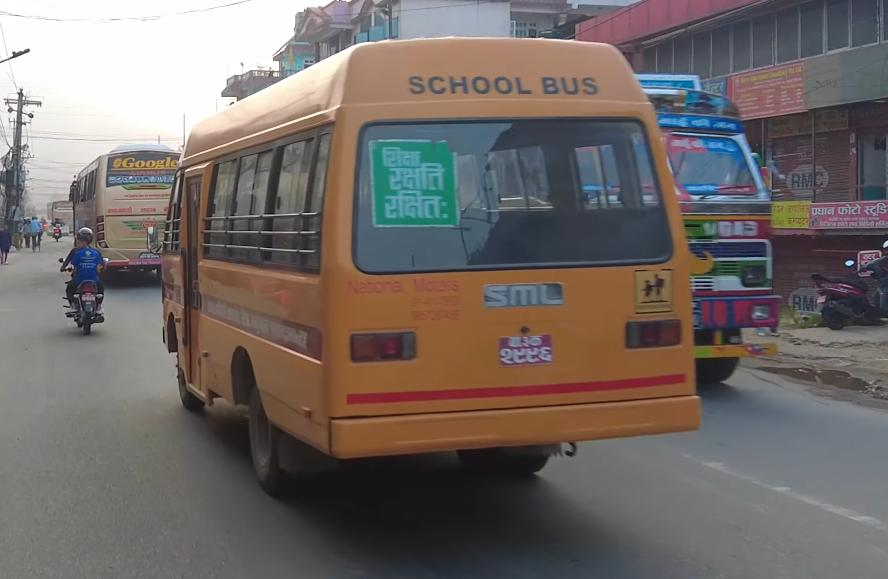bike: (54, 253, 114, 337)
bus: (67, 142, 184, 285)
school_bus: (144, 31, 703, 508)
truck: (619, 71, 782, 388)
